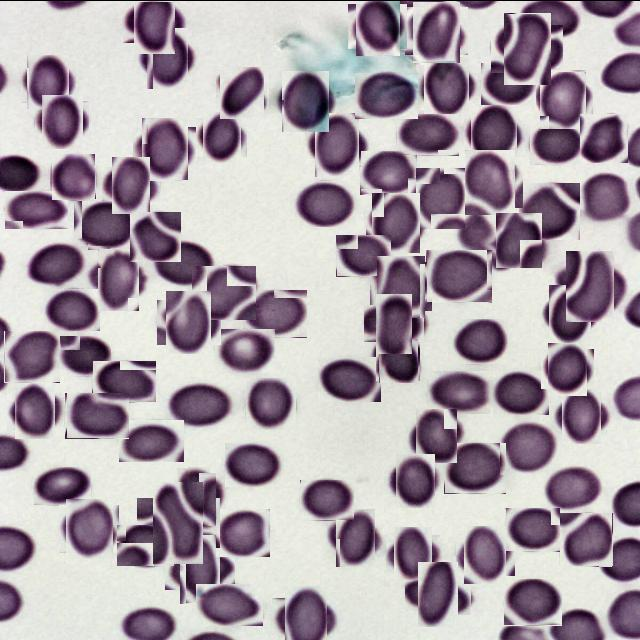red blood cell: (146, 488, 212, 556), (560, 256, 620, 316), (498, 18, 558, 78), (191, 265, 256, 320), (426, 249, 492, 302), (519, 182, 580, 239), (461, 152, 519, 210), (163, 384, 236, 430), (74, 200, 138, 250), (241, 289, 307, 337), (444, 442, 506, 493), (412, 170, 468, 226), (408, 2, 464, 58), (500, 421, 559, 474), (278, 73, 334, 128), (150, 240, 216, 286), (310, 116, 364, 172), (374, 258, 428, 314), (173, 542, 228, 596), (369, 195, 424, 249), (162, 294, 216, 349), (66, 392, 130, 438), (536, 72, 590, 126), (138, 122, 192, 176), (468, 106, 522, 160), (62, 500, 116, 554), (559, 512, 613, 566), (4, 330, 60, 382), (355, 72, 418, 118), (294, 180, 356, 226), (318, 356, 381, 401), (196, 583, 263, 625), (421, 60, 474, 113), (503, 578, 562, 625), (544, 288, 596, 341), (427, 370, 491, 413), (119, 419, 184, 461), (26, 242, 88, 286), (92, 253, 144, 305), (142, 31, 194, 83), (351, 0, 403, 52), (412, 568, 464, 620), (92, 360, 156, 402), (544, 465, 603, 510), (245, 378, 298, 428), (396, 113, 459, 155), (278, 591, 332, 640), (215, 328, 275, 372), (451, 318, 508, 364), (581, 173, 633, 223), (460, 528, 510, 580), (494, 214, 544, 266), (216, 508, 270, 556), (225, 442, 283, 486), (130, 211, 181, 261), (493, 369, 549, 414), (4, 190, 68, 229), (128, 0, 180, 48), (360, 150, 417, 193), (172, 470, 221, 520), (116, 524, 174, 566), (505, 507, 560, 551), (44, 288, 100, 330), (24, 57, 73, 105), (331, 512, 379, 561), (580, 113, 628, 162), (369, 298, 418, 346), (218, 67, 266, 116), (481, 62, 536, 104), (336, 234, 391, 276), (107, 161, 155, 209), (412, 411, 460, 459), (38, 97, 86, 145), (33, 466, 91, 505), (558, 392, 606, 439), (12, 386, 59, 434), (300, 479, 354, 520), (544, 344, 590, 392), (530, 122, 582, 164), (392, 457, 438, 503), (390, 530, 436, 576), (60, 335, 111, 375), (199, 114, 244, 159), (50, 154, 96, 198), (377, 339, 419, 381)
